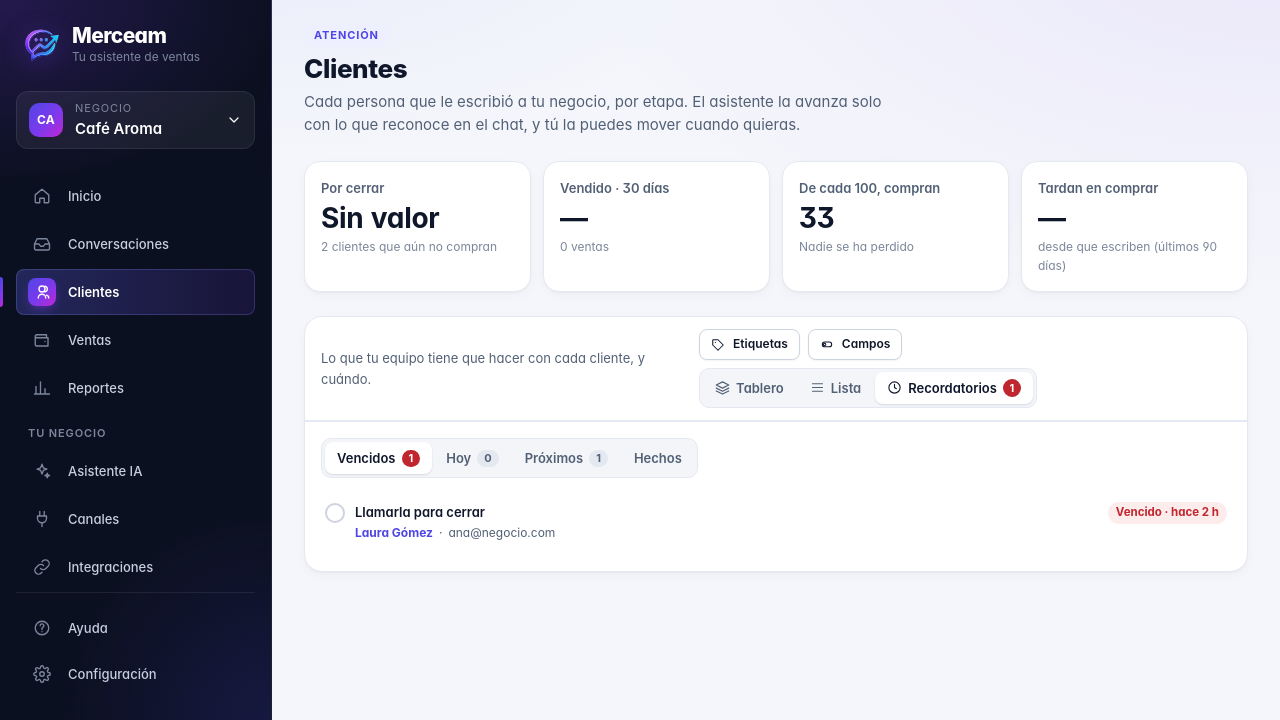
Test case: Los recordatorios del equipo › marcar uno hecho lo saca de los pendientes y aparece en «Hechos»
The image size is (1280, 720).
expect the heading "Clientes" is shown: met, box [304,53,910,84]
What coordinates should you click on to do the following:
click the button "Vencidos 1"
I would click on:
 (379, 458)
Its box is [325,442,432,474].
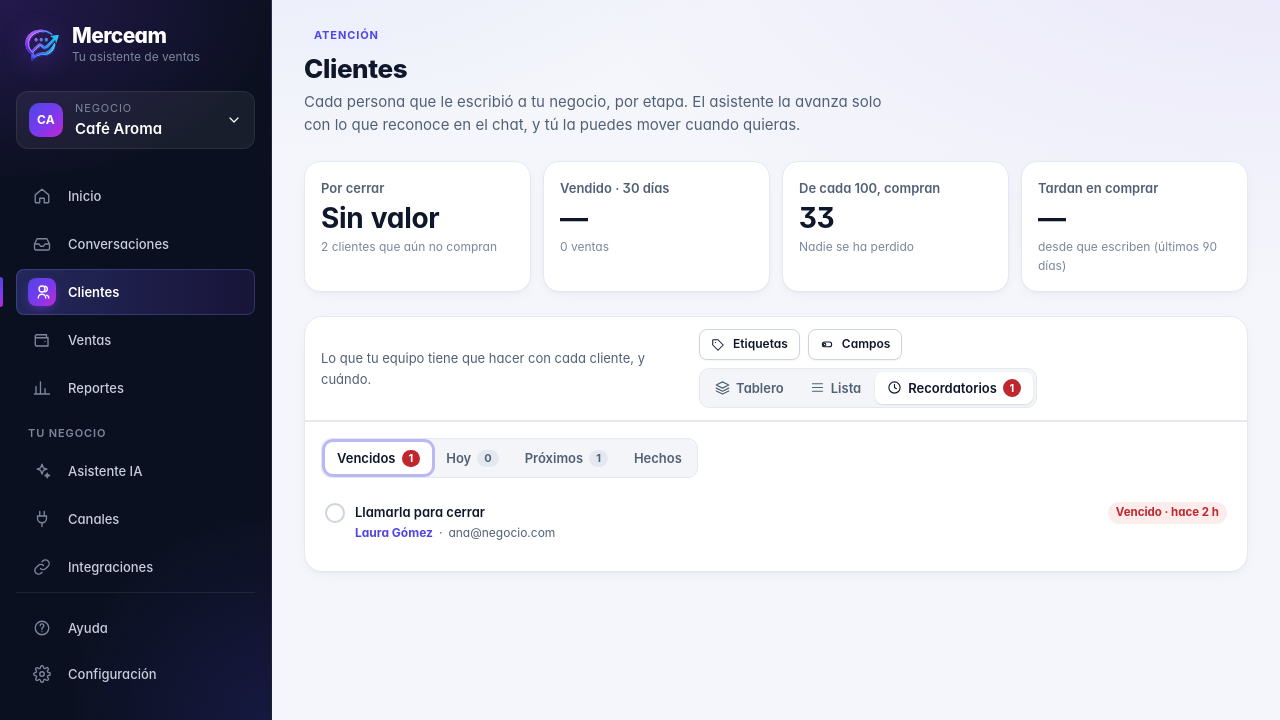
What coordinates should you click on to do the following:
click the button named "Marcar «Llamarla para cerrar» como hecho"
I would click on:
 (335, 513)
Its box is [325,503,345,523].
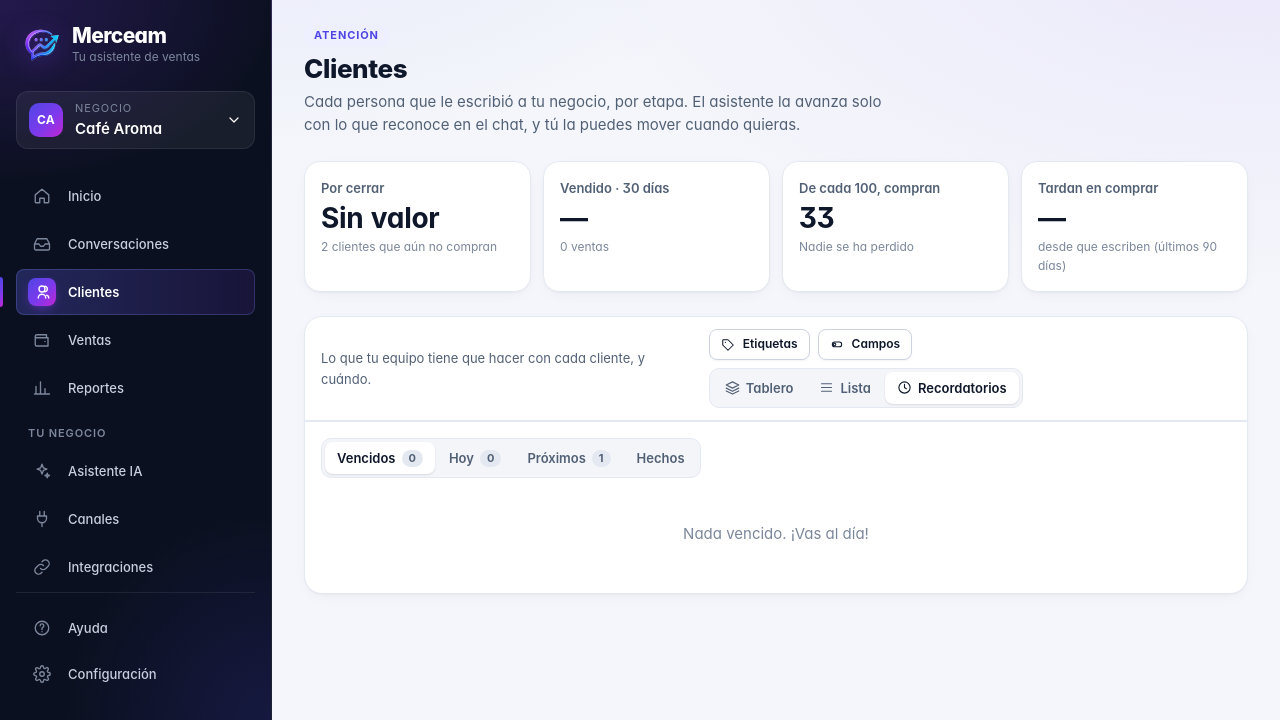
expect the text "Nada vencido. ¡Vas al día!" is shown: met, box [683,524,869,543]
expect the field labelled "1 vencido" is gone: met
What coordinates should you click on to do the following:
click the button "Hechos"
I would click on:
 (661, 458)
Its box is [625,442,697,474].
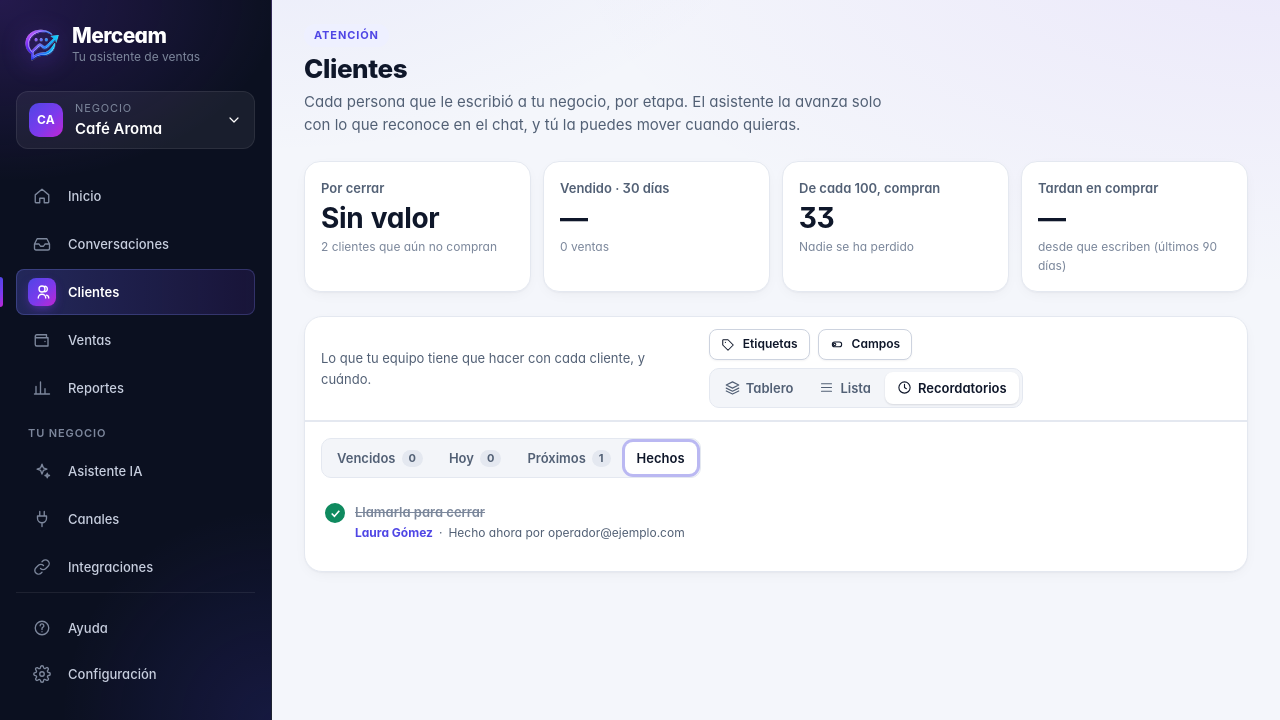
expect the text "Llamarla para cerrar" is shown: met, box [355,504,485,520]
expect the list named "Hechos" shows "por operador@ejemplo.com": met, box [448,525,685,540]
